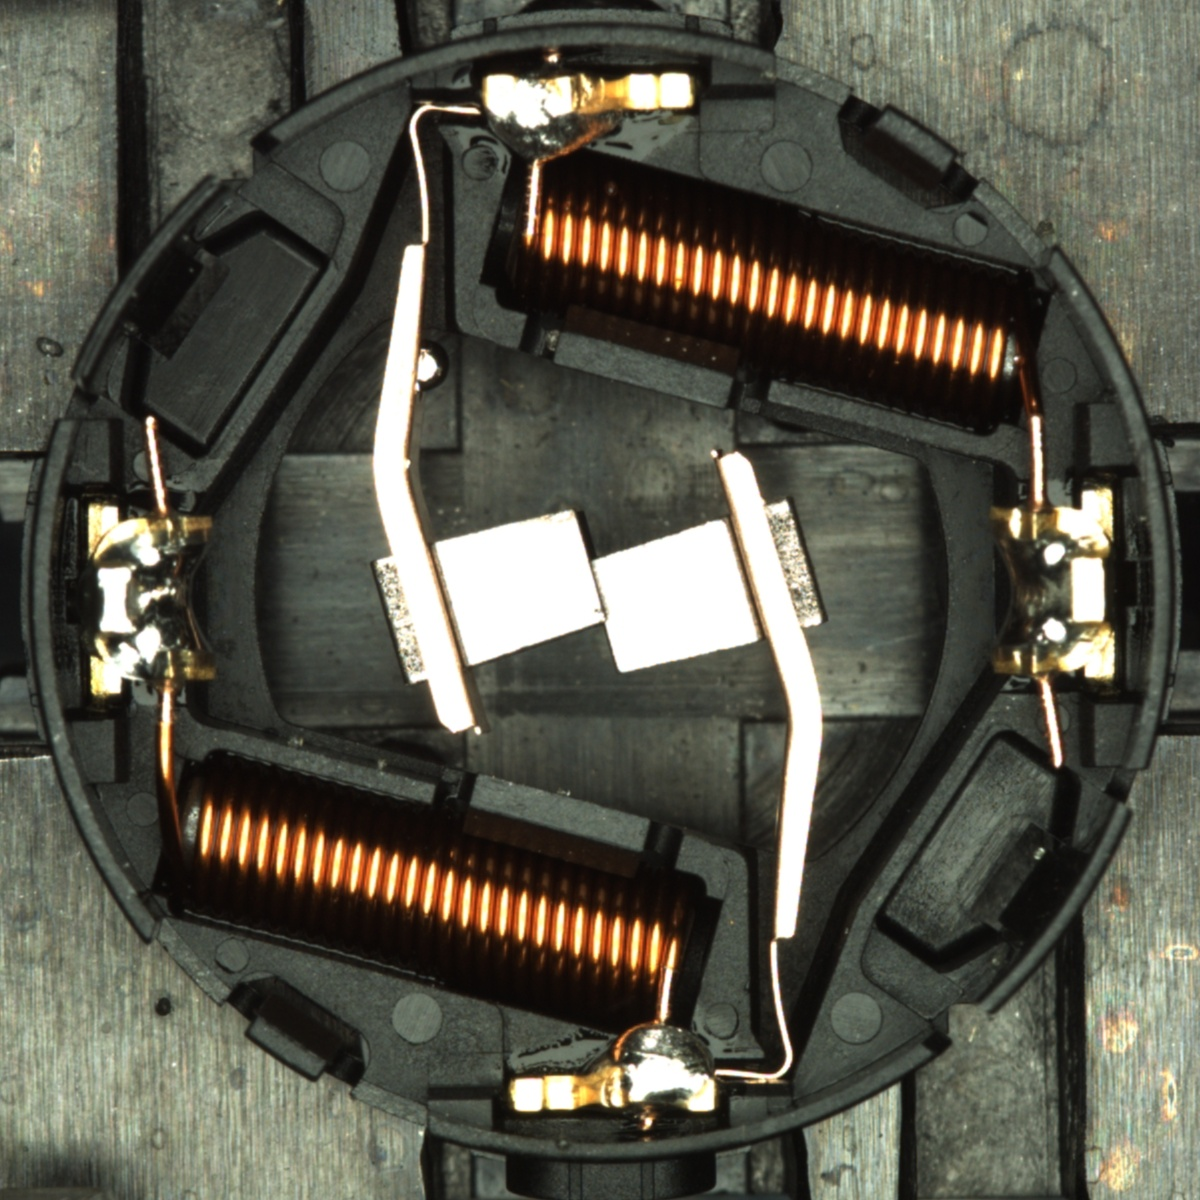1: (252, 29, 481, 254), (711, 927, 940, 1151)
2: (711, 29, 940, 254), (252, 927, 481, 1151)
3: (23, 254, 252, 478), (940, 703, 1169, 927)
4: (711, 703, 940, 927)
5: (481, 142, 711, 366), (481, 815, 711, 1039)
6: (711, 254, 940, 478), (252, 703, 481, 927)
7: (940, 254, 1169, 478), (23, 703, 252, 927)
cacbon: (391, 497, 801, 684)
chau_dien: (81, 497, 221, 699), (983, 487, 1123, 687)
hat_chi: (409, 339, 452, 393)
tay_choi: (480, 68, 699, 168), (508, 1017, 720, 1115)
thanh_de: (952, 786, 1139, 1030), (58, 163, 245, 404)
